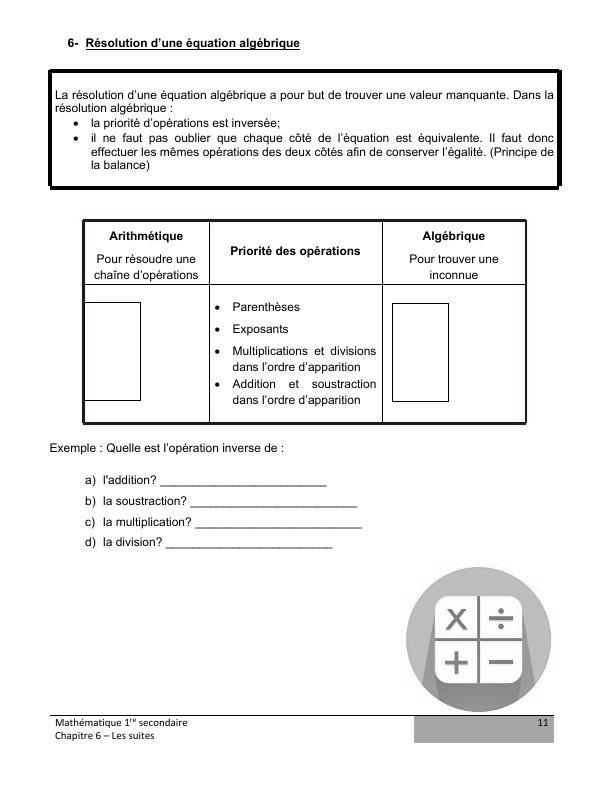input: (161, 532, 336, 554), (186, 492, 362, 513), (189, 511, 365, 532), (158, 471, 328, 489)
table: (76, 214, 531, 430)
text: (54, 75, 558, 182), (46, 440, 290, 459), (83, 515, 192, 530), (83, 494, 188, 509), (83, 535, 163, 549), (83, 473, 157, 486)
